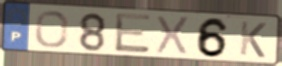6: (194, 16, 231, 59)
8: (77, 10, 108, 52)
E: (113, 12, 153, 54)
K: (238, 19, 269, 60)
O: (33, 10, 70, 49)
X: (154, 14, 192, 57)
